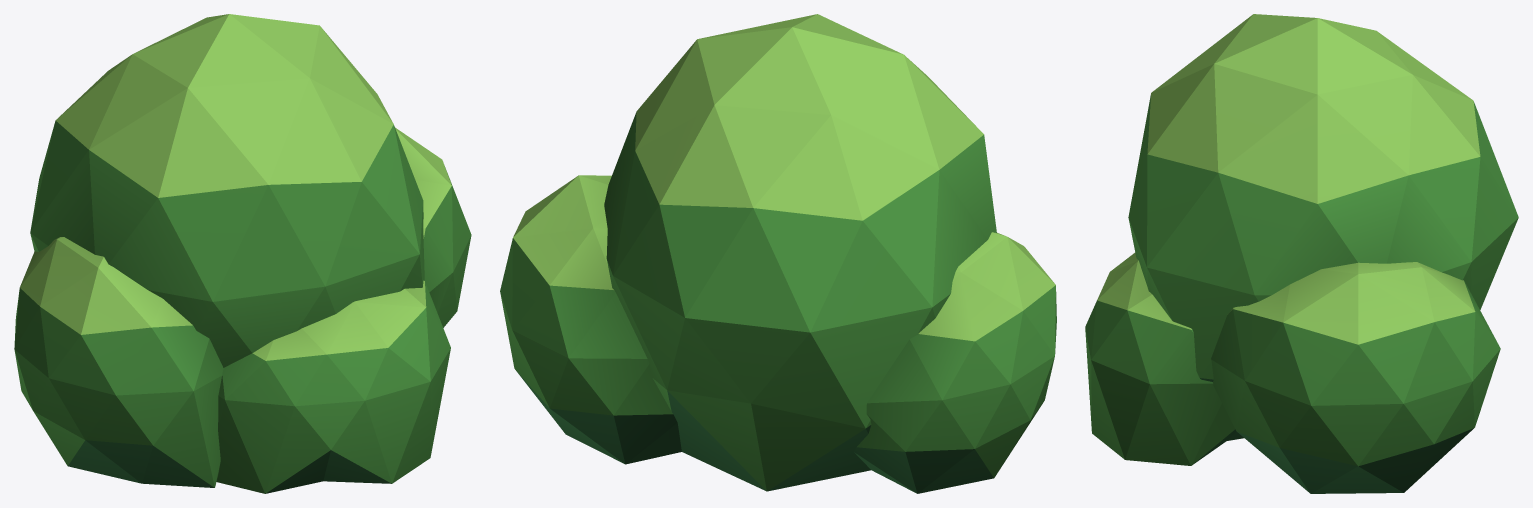
The model's file is shrub_round_a.glb.
The picture shows the model from 3 angles, left to right: view 1: azimuth 30°, elevation 25°; view 2: azimuth 150°, elevation 25°; view 3: azimuth 270°, elevation 25°; orthographic projection. The views are drawn at different scales.
Visible parts, largest first — view 1: Body; view 2: Body; view 3: Body.
Boxes of the visible parts, bbox=[...] form: Body: bbox=[14, 14, 471, 493]; Body: bbox=[500, 14, 1056, 493]; Body: bbox=[1085, 14, 1518, 493].
Size of the model in its own units: 1.02 by 0.8548 by 0.8565.
Materials: 1 (1 with a texture image).
